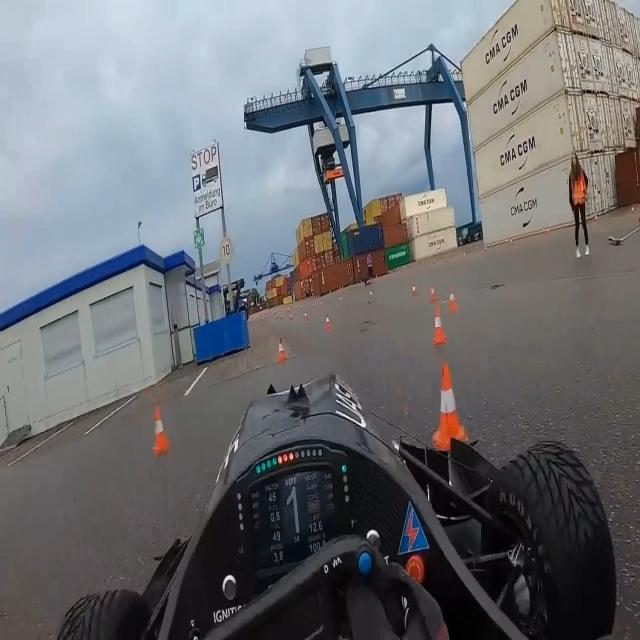Orange cone: (423, 358, 470, 490), (144, 389, 182, 485), (428, 292, 448, 358), (443, 276, 468, 326), (275, 330, 299, 380), (406, 271, 426, 318), (423, 273, 442, 319), (320, 306, 337, 345), (364, 282, 380, 317), (302, 300, 316, 329)
